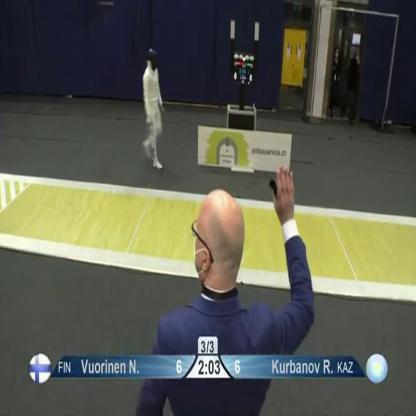crowd: (329, 44, 342, 124)
fencer: (129, 43, 177, 180)
referee: (136, 159, 327, 416)
